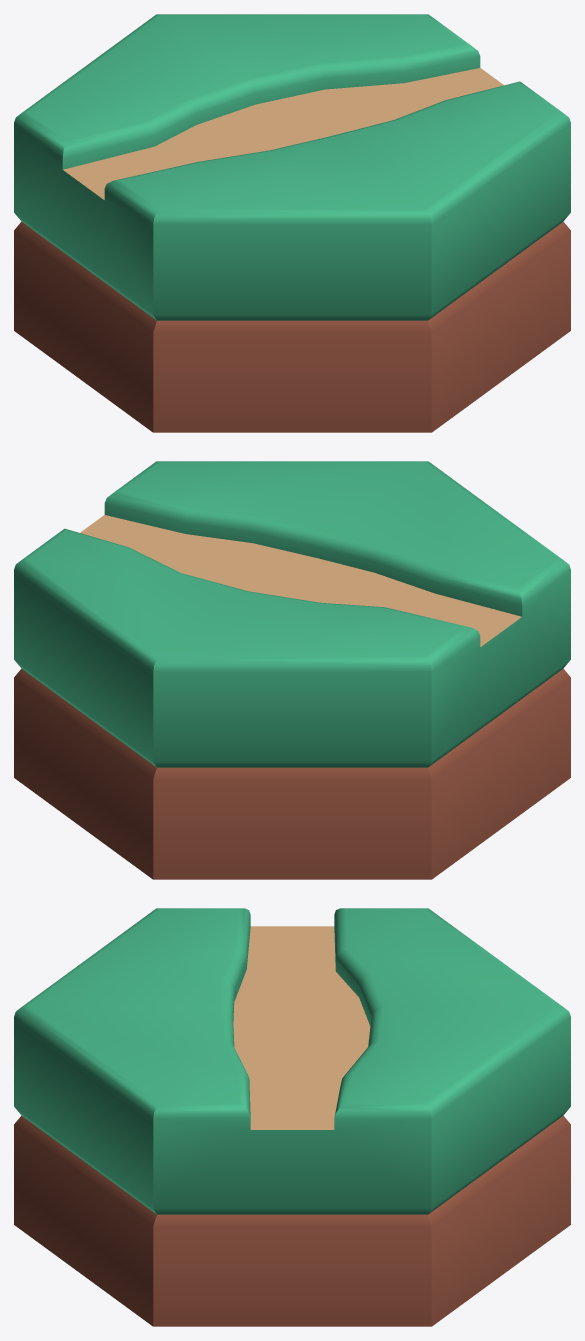
File: hex_forest_roadB_detail.glb
3 renders of one model, top to bottom at view 1: azimuth 30°, elevation 25°; view 2: azimuth 150°, elevation 25°; view 3: azimuth 270°, elevation 25°, orthographic.
Parts seen in each view (by area): view 1: hex_forest_roadB_detail; view 2: hex_forest_roadB_detail; view 3: hex_forest_roadB_detail.
Boxes of the visible parts, x1,y1,x2,y2 form: hex_forest_roadB_detail: [14, 14, 570, 432]; hex_forest_roadB_detail: [14, 461, 570, 879]; hex_forest_roadB_detail: [14, 908, 570, 1326].
Bounding box in the file's own units: 2 × 1 × 2.31.
